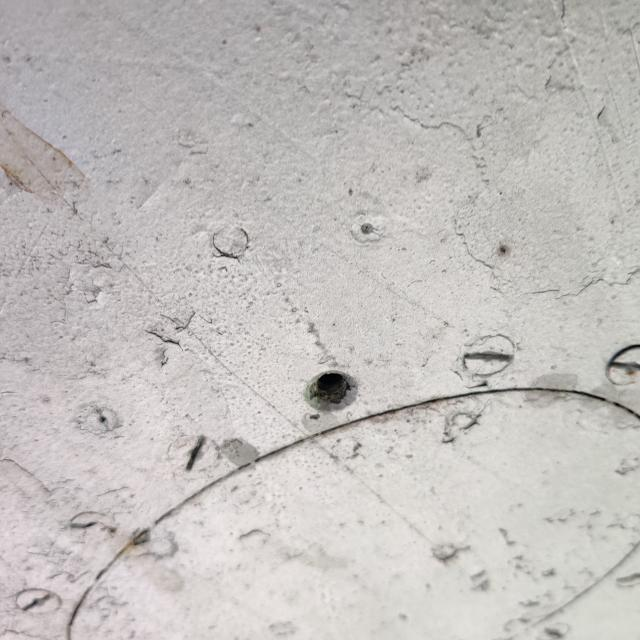missing-head: (271, 335, 394, 454)
